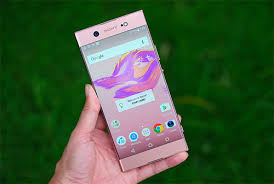sony: (74, 9, 187, 172)
